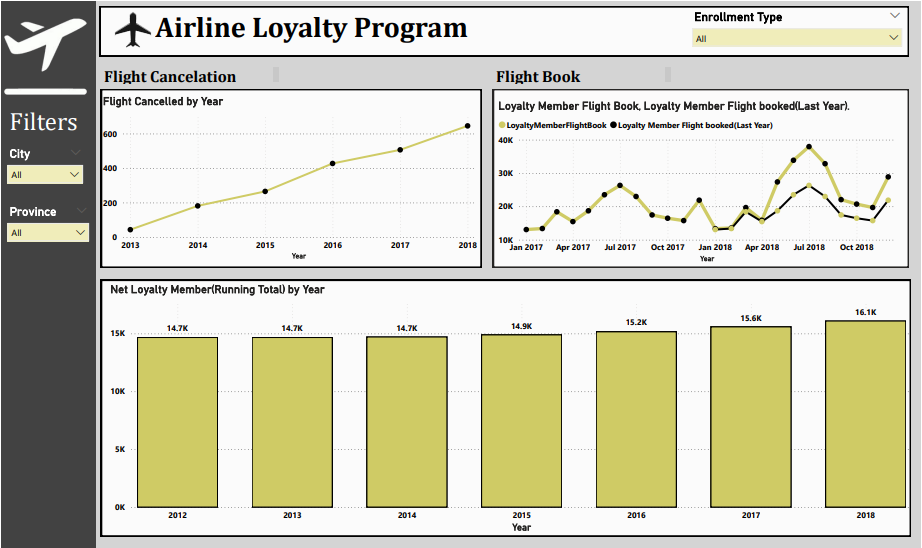

The page's visual inventory and layout, read from the dashboard file:
{"tool":"powerbi","page":{"name":"Flight Book Details","canvas":[1380,820],"ordinal":1},"visuals":[{"type":"shape","box":[148.1,7.7,1213.5,75],"z":0},{"type":"shape","box":[738.2,132.4,623.5,267.6],"z":1000},{"type":"shape","box":[0,0,142.3,865.4],"z":2000},{"type":"textbox","box":[226.9,7.7,651.9,103.8],"z":3000},{"type":"textbox","box":[738.5,94.2,271.2,34.6],"z":4000},{"type":"shape","box":[150,417.6,1214.7,385.3],"z":5000},{"type":"shape","box":[150,132.4,570.6,267.6],"z":6000},{"type":"image","box":[150,0,96.2,86.5],"z":7000},{"type":"textbox","box":[7.7,153.8,140.4,63.5],"z":8000},{"type":"slicer","fields":{"Values":["Customer Loyalty History.City"]},"box":[0,213.5,132.7,71.2],"z":9000},{"type":"slicer","fields":{"Values":["Customer Loyalty History.Province"]},"box":[0,300,142.3,71.2],"z":10000},{"type":"image","box":[0,13.5,132.7,138.5],"z":11000},{"type":"lineChart","title":"Loyalty Member Flight Book, Loyalty Member Flight booked(Last Year).","fields":{"Y":["Airline Loyalty Data Dictionary.LoyaltyMemberFlightBook","Airline Loyalty Data Dictionary.Loyalty Member Flight booked(Last Year)"],"Category":["Calendar.Start of Month.Variation.Date Hierarchy.Year","Calendar.Start of Month.Variation.Date Hierarchy.Quarter","Calendar.Start of Month.Variation.Date Hierarchy.Month","Calendar.Start of Month.Variation.Date Hierarchy.Day"]},"box":[741.2,147.1,620.6,250],"z":12000},{"type":"clusteredColumnChart","fields":{"Category":["Calendar.Date.Variation.Date Hierarchy.Year"],"Y":["Airline Loyalty Data Dictionary.Net Loyalty Member(Running Total)"]},"box":[158.6,422.4,1212.1,379.3],"z":13000},{"type":"slicer","fields":{"Values":["Customer Loyalty History.Enrollment Type"]},"box":[1026.9,7.7,334.6,71.2],"z":14000},{"type":"lineChart","title":"Flight Cancelled by Year","fields":{"Y":["Sum(Customer Loyalty History.Has Cancelled)"],"Category":["Calendar.Date.Variation.Date Hierarchy.Year"]},"box":[148.3,139.7,570.7,253.4],"z":15000},{"type":"textbox","box":[150,94.2,271.2,34.6],"z":16000}]}

Visuals, with their boxes in screenshot pixels (x1, y1, x2, y2), scaled from the page's 1380x820 canvas onto the 922x548 screenshot:
shape: bbox=(99, 5, 910, 55)
shape: bbox=(493, 88, 910, 267)
shape: bbox=(0, 0, 95, 547)
textbox: bbox=(152, 5, 587, 75)
textbox: bbox=(493, 63, 675, 86)
shape: bbox=(100, 279, 912, 537)
shape: bbox=(100, 88, 481, 267)
image: bbox=(100, 0, 164, 58)
textbox: bbox=(5, 103, 99, 145)
slicer - Customer Loyalty History.City: bbox=(0, 143, 89, 190)
slicer - Customer Loyalty History.Province: bbox=(0, 200, 95, 248)
image: bbox=(0, 9, 89, 102)
"Loyalty Member Flight Book, Loyalty Member Flight booked(Last Year)." lineChart: bbox=(495, 98, 910, 265)
clusteredColumnChart - Calendar.Date.Variation.Date Hierarchy.Year x Airline Loyalty Data Dictionary.Net Loyalty Member(Running Total): bbox=(106, 282, 916, 536)
slicer - Customer Loyalty History.Enrollment Type: bbox=(686, 5, 910, 53)
"Flight Cancelled by Year" lineChart: bbox=(99, 93, 480, 263)
textbox: bbox=(100, 63, 281, 86)
